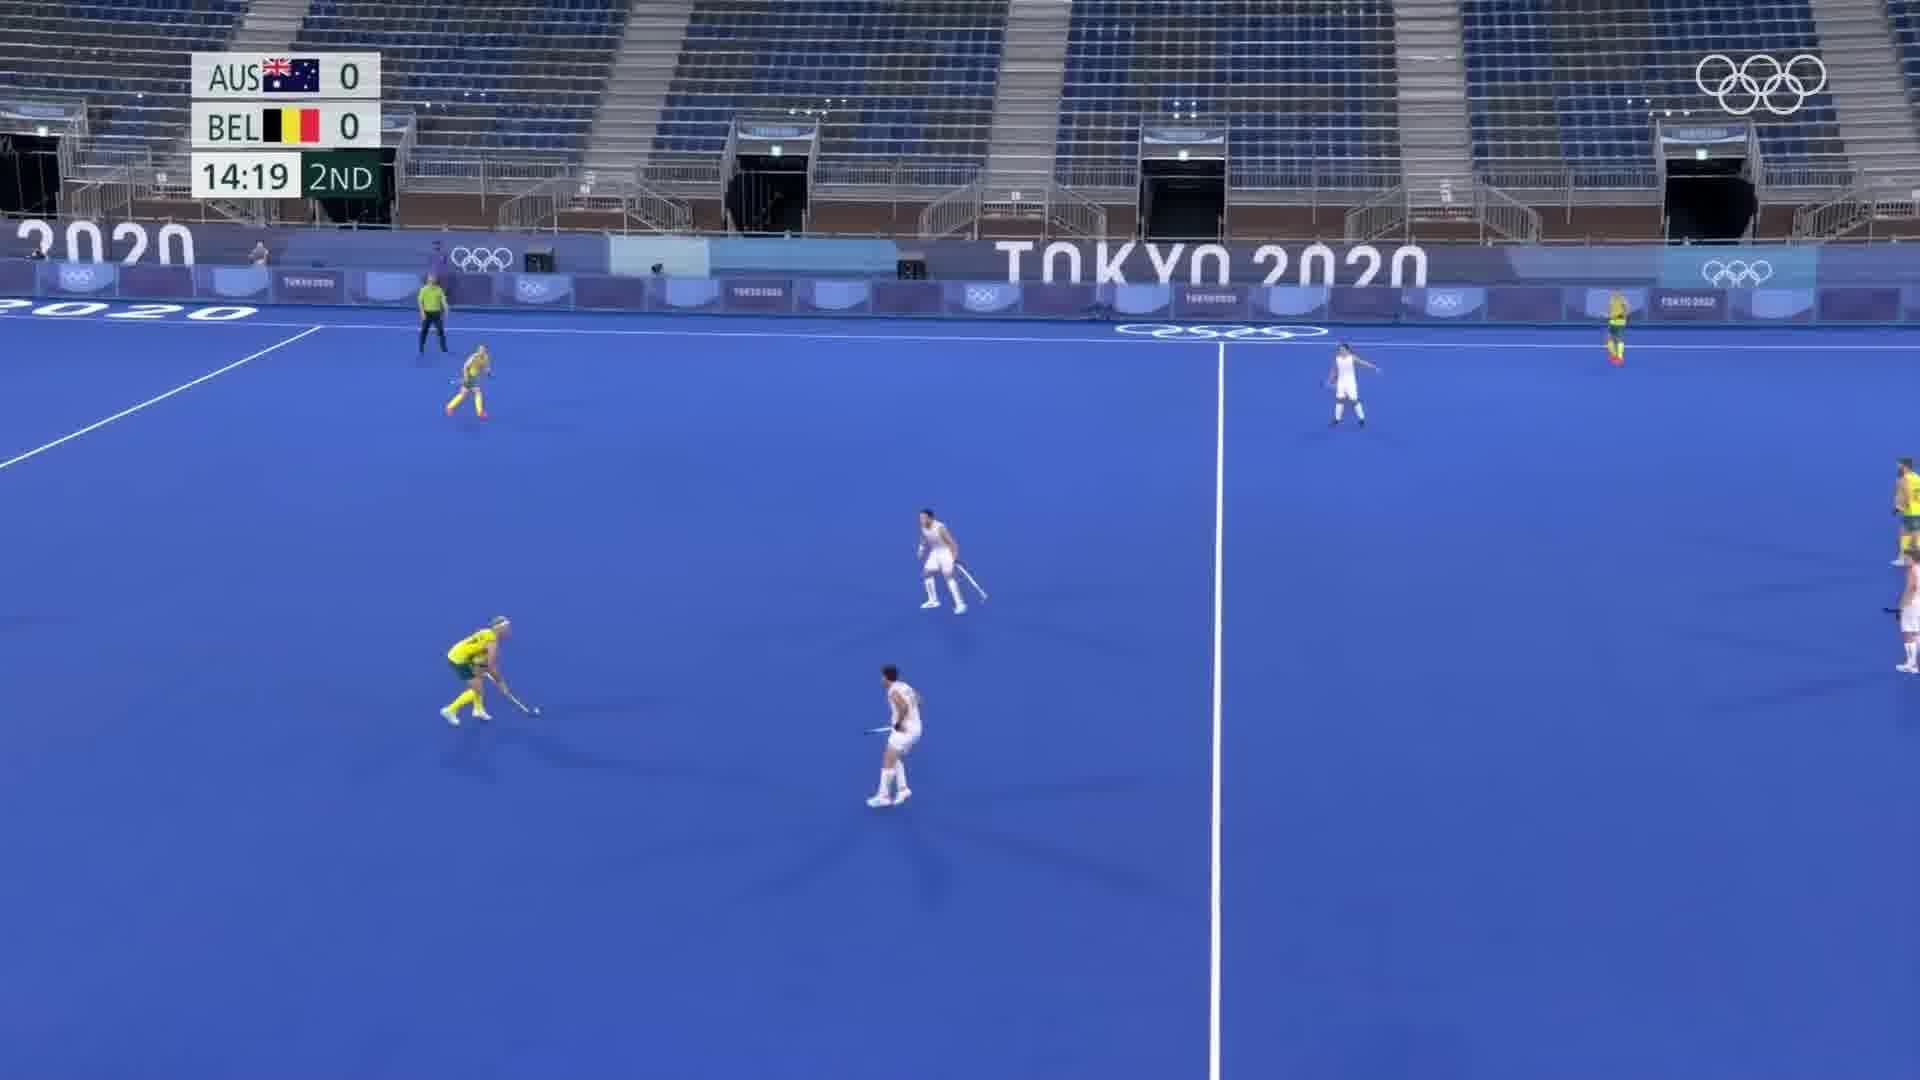ball: (531, 704, 547, 719)
